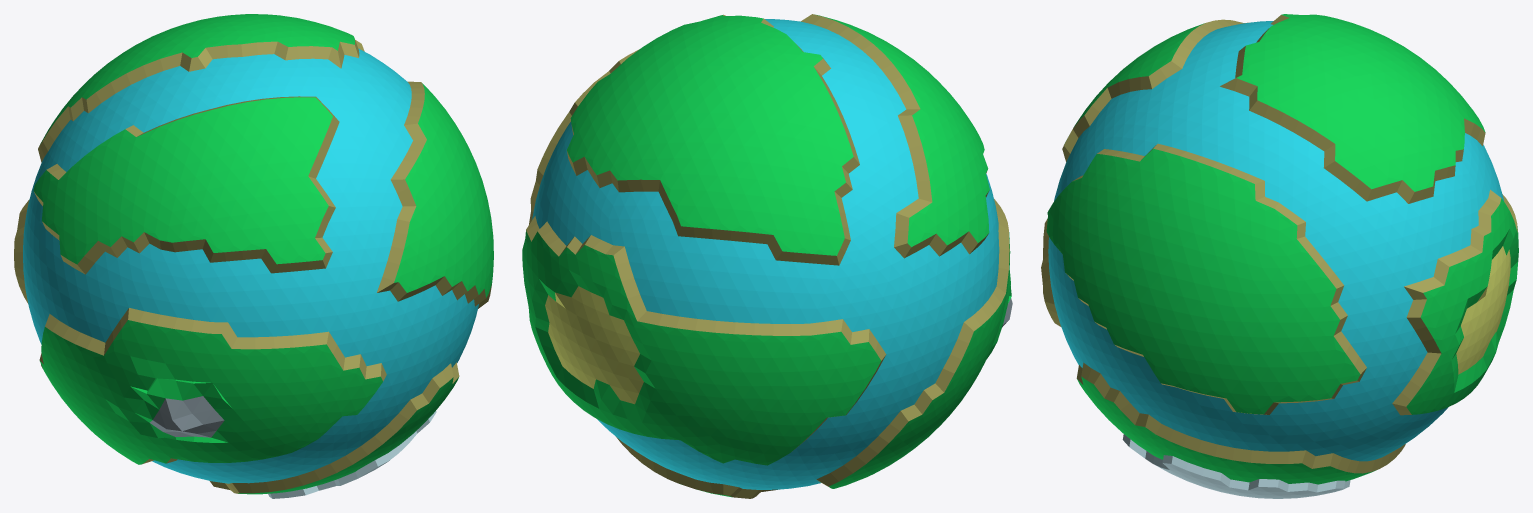
3 renders of one model, left to right at view 1: azimuth 30°, elevation 25°; view 2: azimuth 150°, elevation 25°; view 3: azimuth 270°, elevation 25°, orthographic. The views are drawn at different scales.
Visible parts, largest first — view 1: Icosphere; view 2: Icosphere; view 3: Icosphere.
Part boxes in pixels (x1,y1,x2,y2): Icosphere: [14, 14, 493, 498]; Icosphere: [522, 14, 1012, 498]; Icosphere: [1041, 14, 1518, 498].
Bounding box in the file's own units: 1037 × 1056 × 1036.
